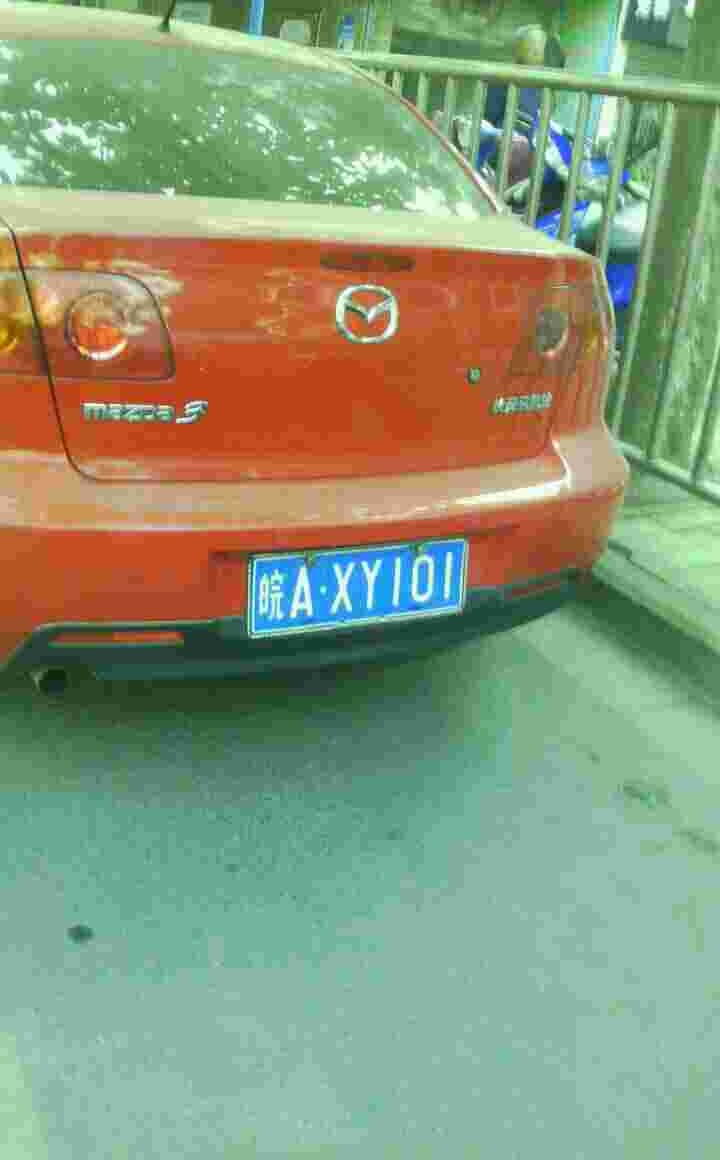license_plate: (251, 545, 464, 639)
